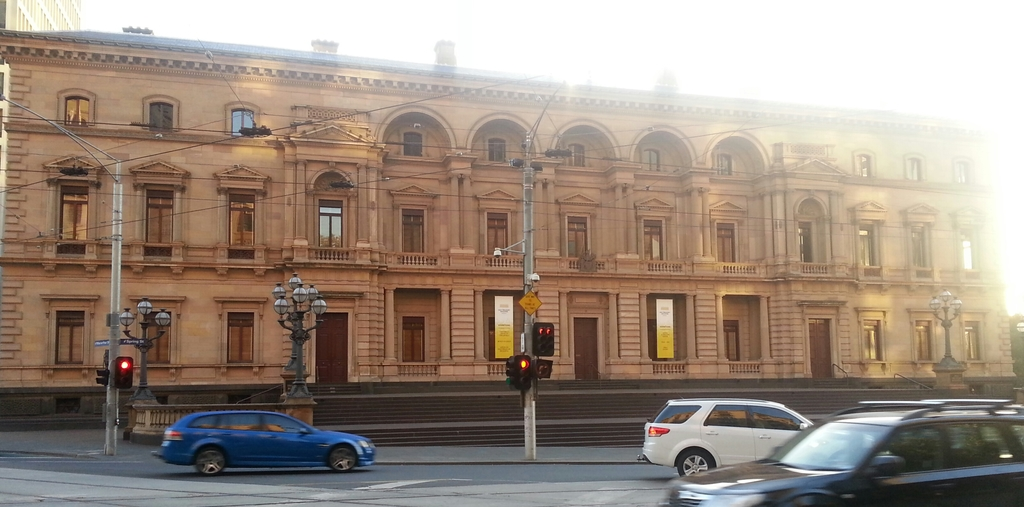cars: (657, 403, 1023, 506), (152, 412, 377, 473), (632, 398, 810, 475)
